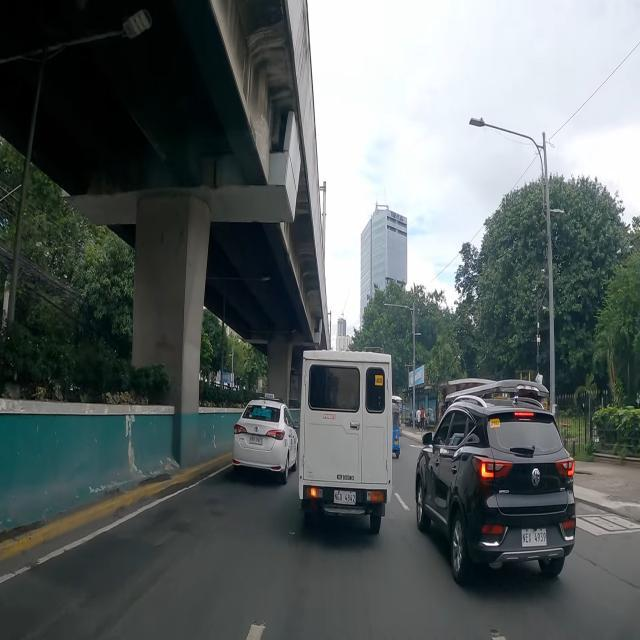car: (415, 396, 576, 584), (232, 394, 300, 484)
jeepney: (441, 380, 548, 418)
tricycle: (392, 403, 400, 460)
truck: (298, 349, 392, 540)
